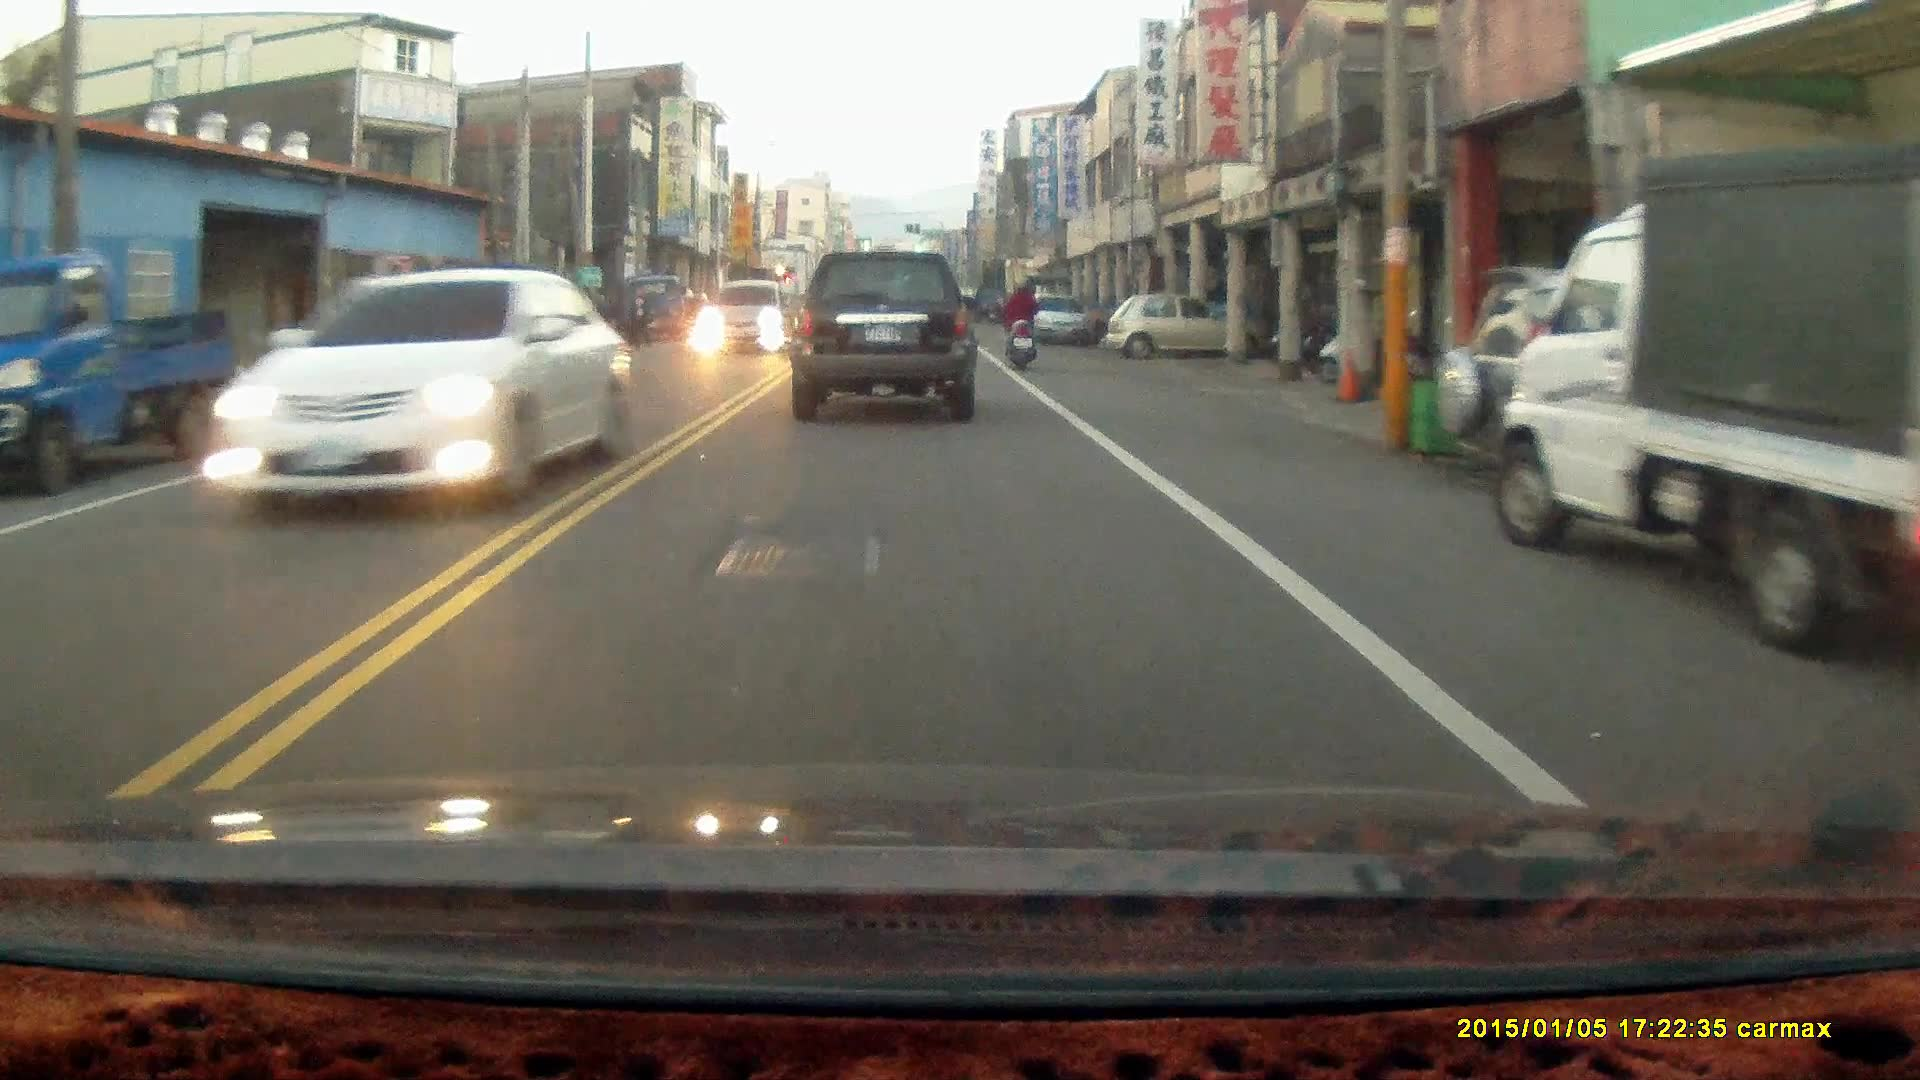pedestrian: (629, 285, 651, 345)
rider: (1003, 275, 1040, 370)
vehicle: (1497, 138, 1920, 673), (193, 267, 633, 517), (1440, 270, 1919, 490), (1, 255, 245, 498), (787, 249, 983, 427), (1105, 293, 1240, 362), (698, 281, 798, 359), (1025, 293, 1095, 347)
